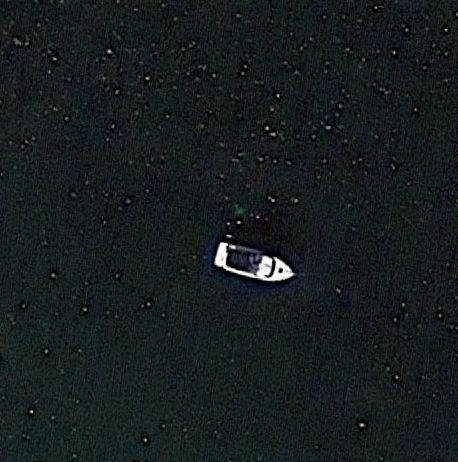boat: (213, 240, 297, 283)
